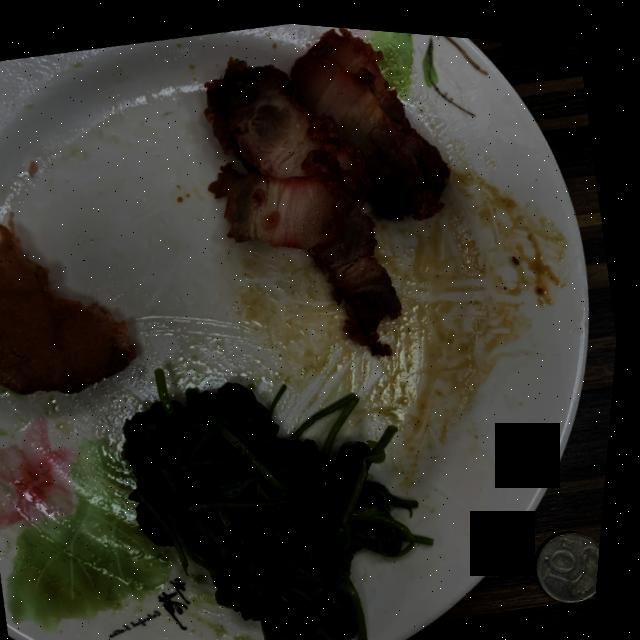Spam: (0, 223, 142, 393)
coin: (544, 521, 608, 592)
red grilled pork: (206, 22, 451, 347)
sweet potato leaves: (130, 366, 441, 640)
